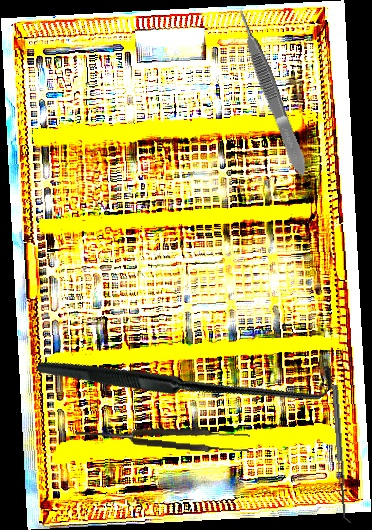Hook Surgical: (35, 221, 341, 526)
Spatula Surgical: (332, 384, 353, 524)
Tissue Forceps: (233, 5, 311, 179), (73, 420, 251, 455)
